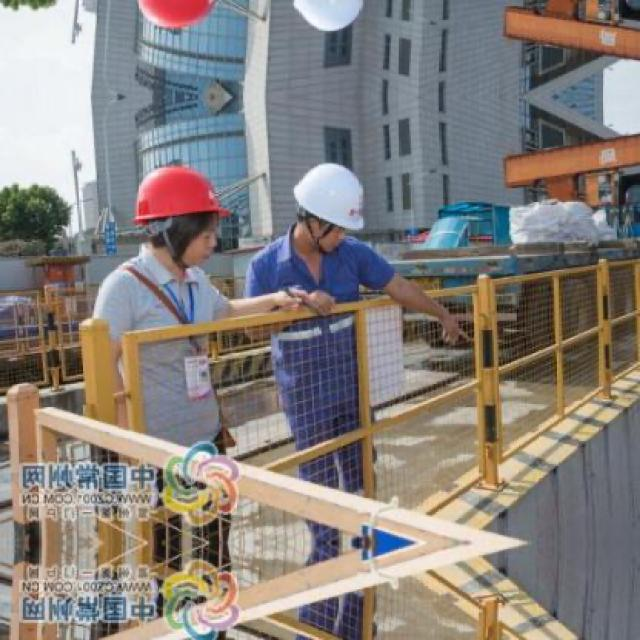helmet: (122, 153, 230, 274), (286, 156, 369, 253), (121, 0, 232, 43), (285, 0, 369, 40)
